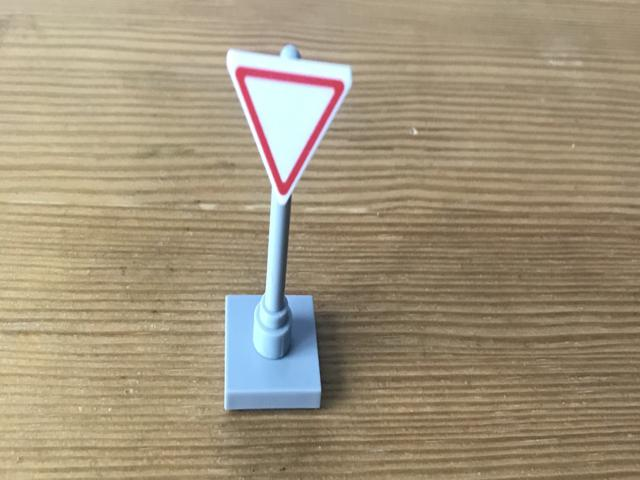vorfahrt gewähren: (227, 52, 354, 200)
